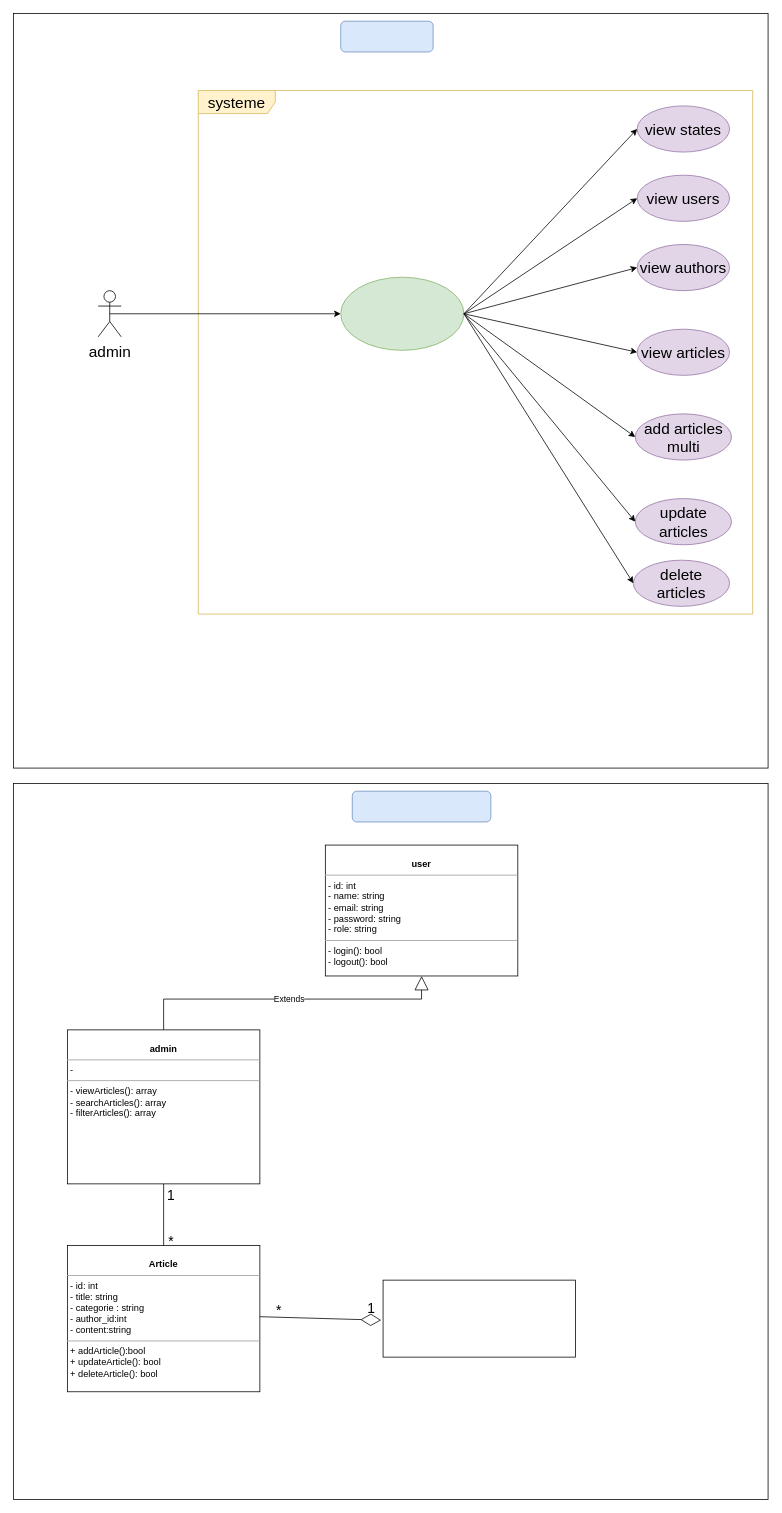
Some shapes in this 782 by 1513 pixel diagram are drawn without their labels. The centre of each missing label's shape, as x and y in pixels:
authentification: point 402,313
categorie - id: int - name : string -: point 479,1318
class diagramme: point 421,806
use case: point 386,36
